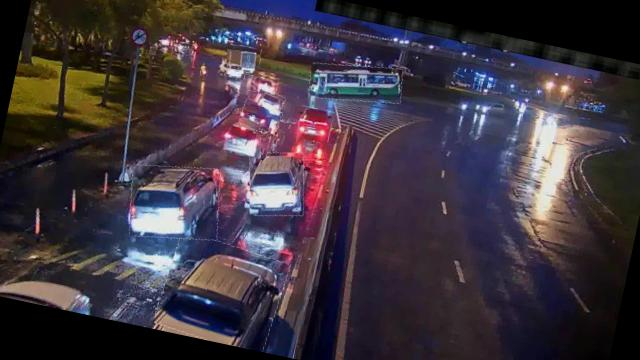Bus: (306, 53, 406, 112)
Car: (153, 231, 290, 353), (122, 156, 228, 250), (240, 145, 312, 223), (222, 113, 274, 161), (238, 99, 282, 136), (295, 106, 334, 144), (253, 86, 286, 114), (247, 72, 278, 96), (221, 60, 247, 79)
Truck: (221, 42, 262, 76)
